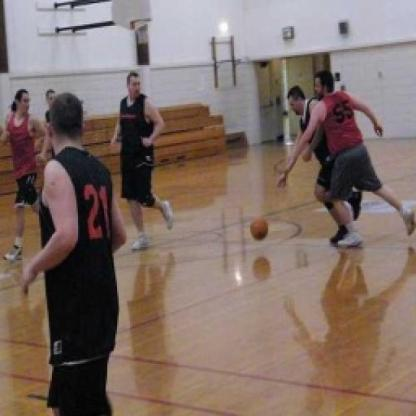basketball: (248, 217, 269, 242)
